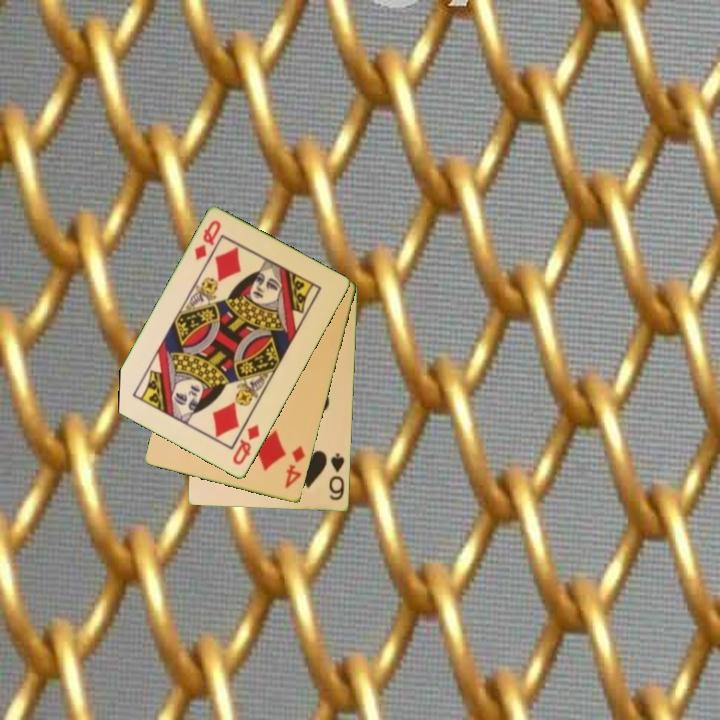4d: (281, 443, 308, 492)
6s: (326, 450, 348, 503)
Qd: (229, 421, 263, 468), (191, 217, 224, 264)
